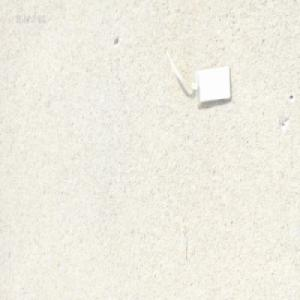LuggageTag: (158, 49, 230, 109)
